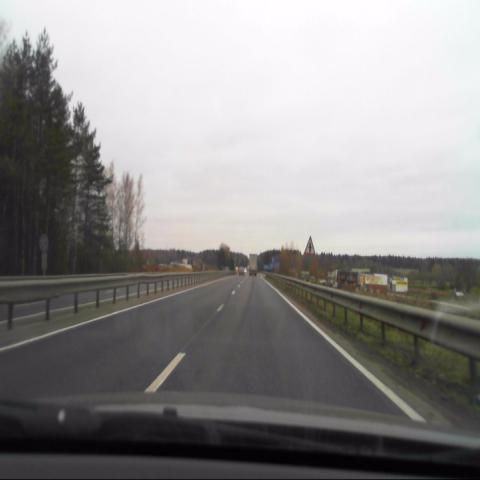2_3: (302, 235, 316, 256)
